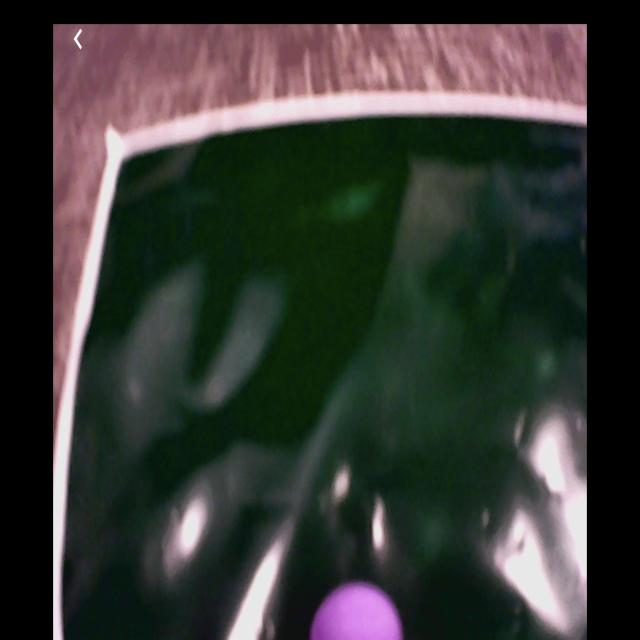ball: (313, 582, 403, 640)
